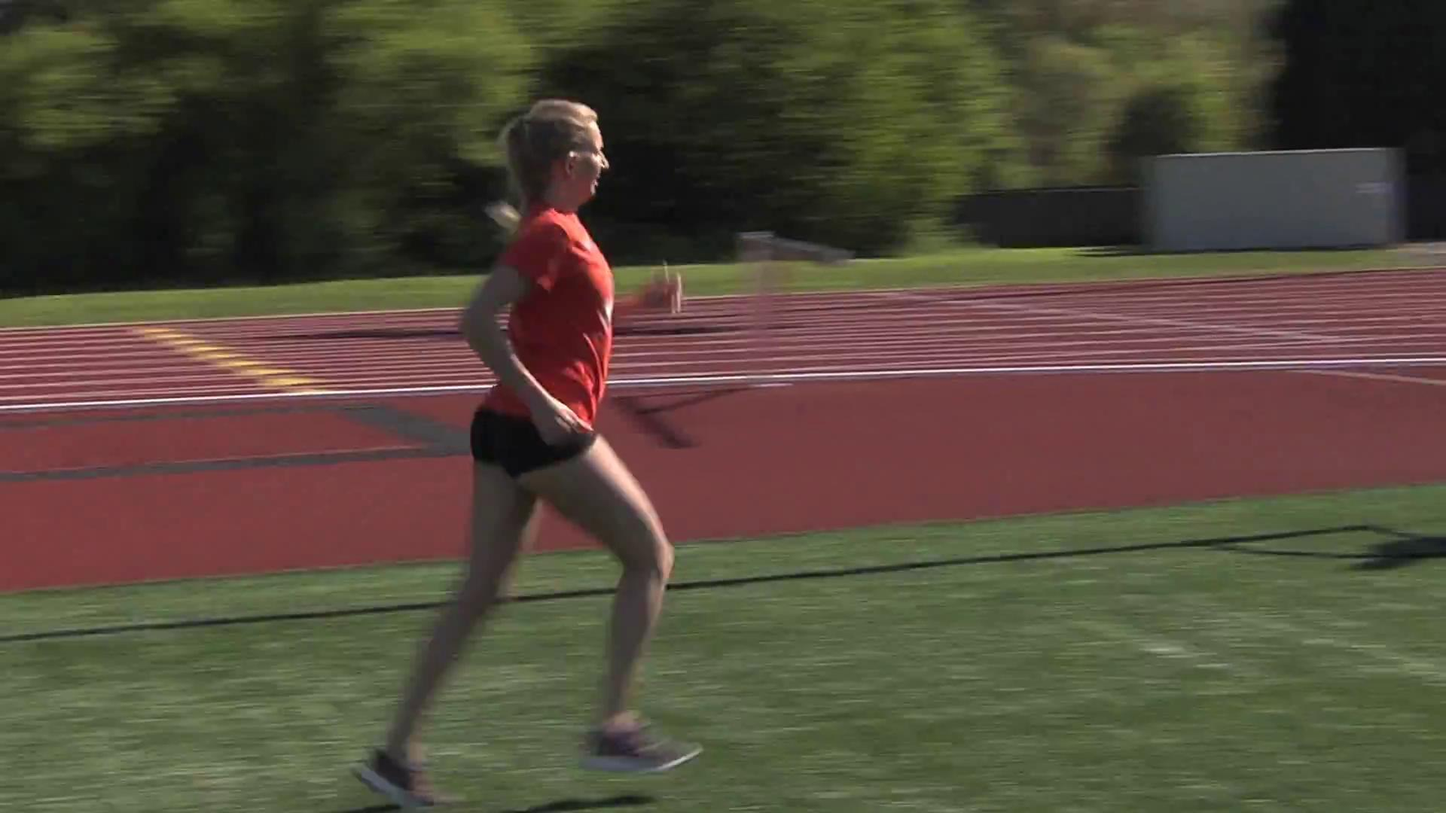victim: (351, 93, 723, 799)
